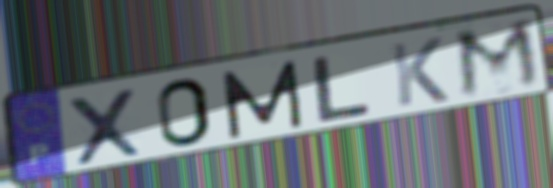0: (153, 76, 216, 150)
K: (387, 34, 452, 110)
L: (309, 53, 374, 125)
M: (451, 15, 548, 103), (218, 57, 308, 142)
X: (63, 85, 148, 169)
